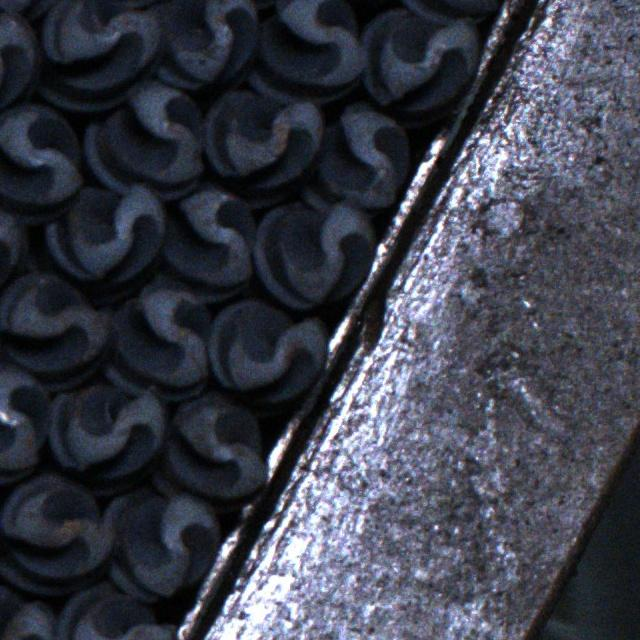tool_b: (84, 81, 206, 200), (203, 90, 324, 208), (46, 182, 168, 299), (207, 298, 327, 415), (0, 476, 113, 598), (360, 10, 477, 127), (103, 489, 222, 604), (38, 2, 161, 113), (104, 278, 214, 402), (252, 197, 374, 308), (48, 382, 166, 494), (150, 391, 266, 504), (1, 276, 109, 392), (298, 100, 409, 212), (250, 0, 367, 102), (158, 182, 255, 300), (148, 0, 259, 90), (1, 104, 86, 220), (57, 583, 179, 640), (0, 362, 49, 486), (0, 3, 39, 123), (0, 571, 55, 640), (0, 195, 26, 301), (398, 0, 505, 22)
